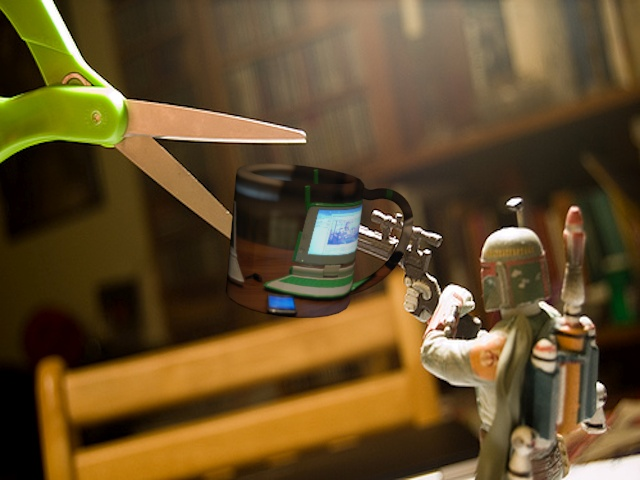mug: (224, 160, 416, 321)
